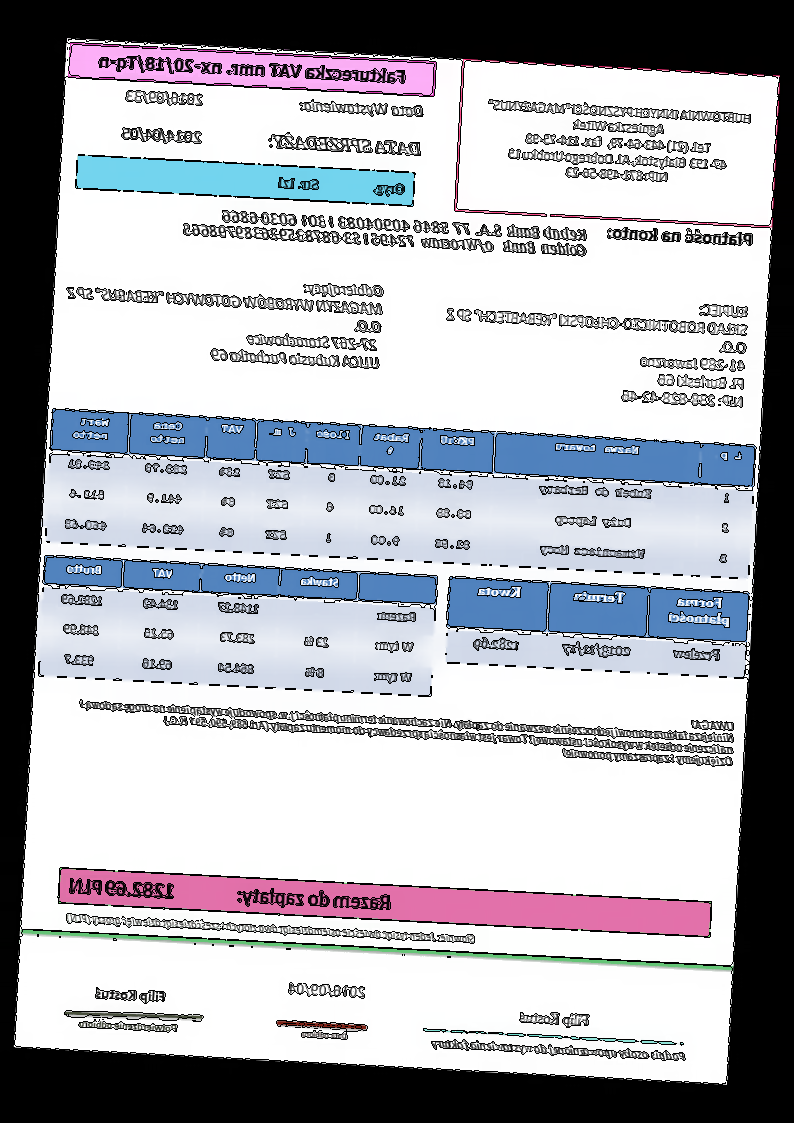Table: (44, 405, 757, 582), (37, 553, 440, 700), (445, 576, 751, 680)
TextBox: (75, 682, 739, 770), (440, 285, 752, 414), (59, 265, 386, 375), (483, 96, 757, 191), (180, 205, 591, 261), (65, 907, 481, 947), (66, 871, 394, 916), (96, 51, 411, 89), (425, 1036, 689, 1066), (267, 128, 426, 161), (606, 221, 760, 251), (275, 171, 411, 200), (298, 93, 429, 121), (119, 121, 206, 148), (284, 975, 369, 1002), (77, 1016, 180, 1035), (89, 982, 170, 1005), (124, 87, 207, 109), (518, 1006, 594, 1030), (297, 1025, 354, 1044)
